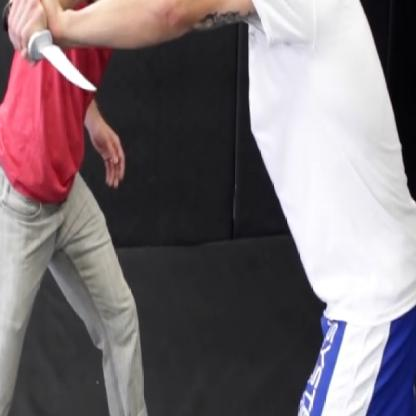knife: (0, 0, 106, 102)
